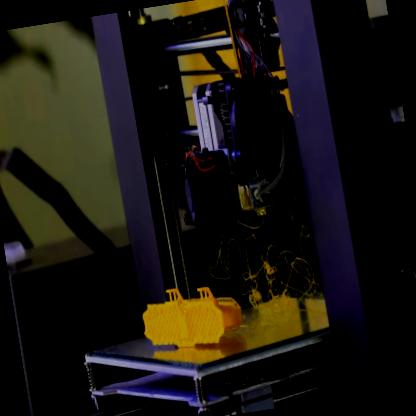fail: (229, 214, 320, 321)
